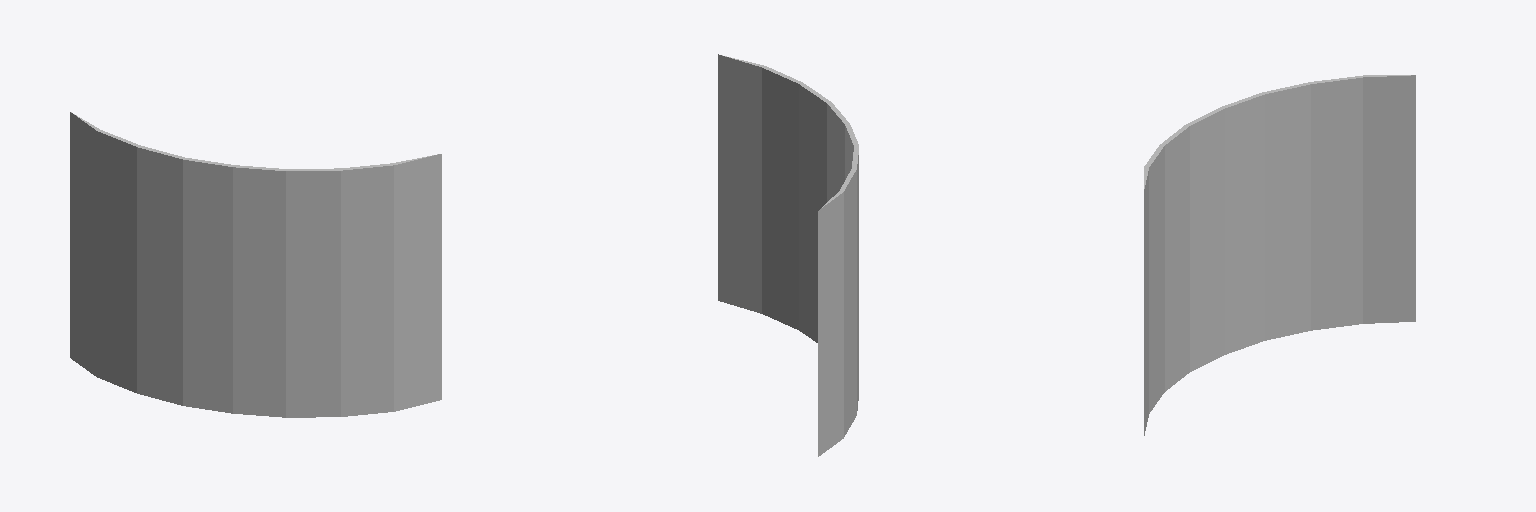
File: quarterpipe2sideways.obj
The picture shows the model from 3 angles: view 1: azimuth 30°, elevation 25°; view 2: azimuth 150°, elevation 25°; view 3: azimuth 270°, elevation 25°; orthographic projection.
Parts seen in each view (by area): view 1: Cube.001; view 2: Cube.001; view 3: Cube.001.
Part boxes in pixels (bbox=[...]): Cube.001: bbox=[70, 112, 441, 417]; Cube.001: bbox=[718, 54, 858, 456]; Cube.001: bbox=[1144, 75, 1415, 435].
Bounding box in the file's own units: 11 × 11 × 11.